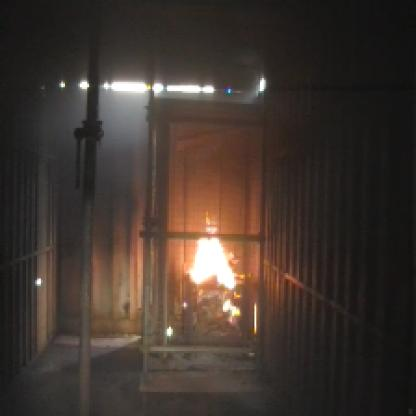Fire: (180, 217, 238, 318)
